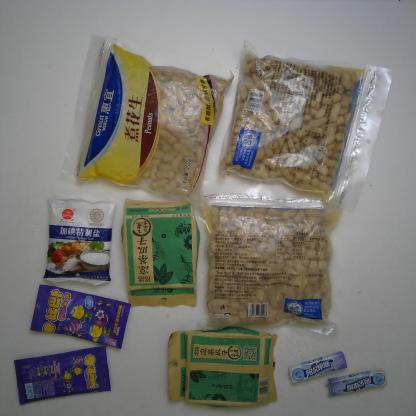Candy: (30, 284, 132, 350), (14, 345, 111, 406), (288, 351, 347, 384), (325, 368, 387, 397)
Dried Food: (215, 38, 394, 215), (61, 33, 236, 212), (194, 178, 342, 338), (168, 326, 278, 409), (121, 198, 201, 308)
Seasoner: (43, 194, 116, 286)
